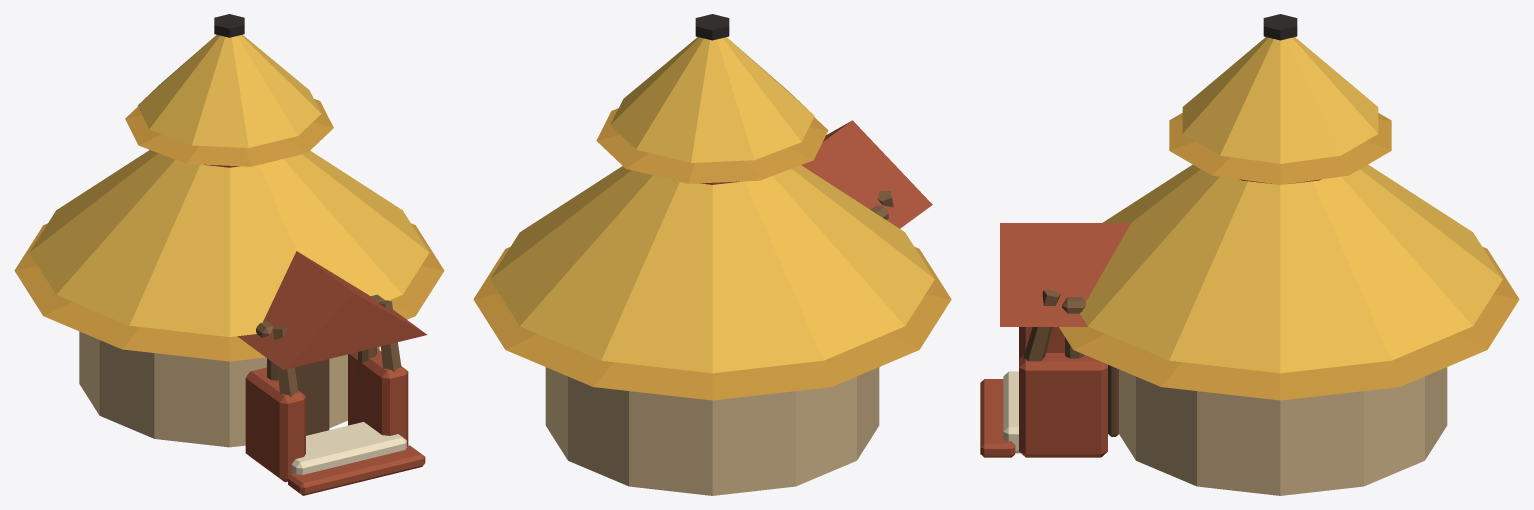
File: ns-great-hut.glb
3 views of the same model, side by side, from view 1: azimuth 30°, elevation 25°; view 2: azimuth 150°, elevation 25°; view 3: azimuth 270°, elevation 25° (orthographic). The views are drawn at different scales.
Visible parts, largest first — view 1: Tapered form; view 2: Tapered form; view 3: Tapered form.
Boxes of the visible parts, left/top/right/bottom form: Tapered form: left=14, top=14, right=444, bottom=495; Tapered form: left=473, top=14, right=951, bottom=495; Tapered form: left=980, top=14, right=1519, bottom=495.
Bounding box in the file's own units: 0.86 × 0.8 × 0.9695.
